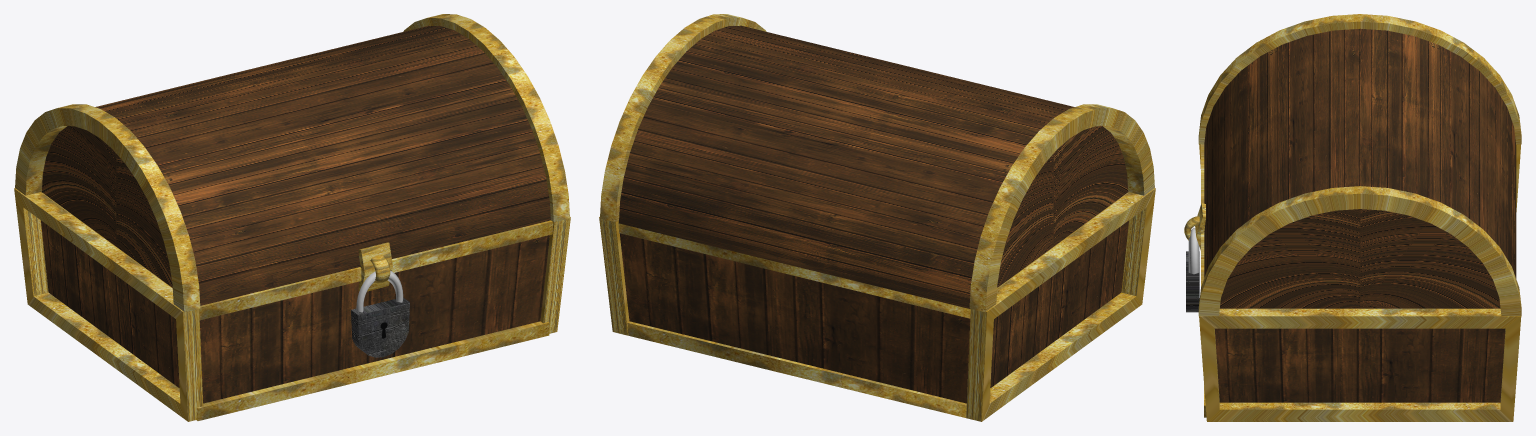
Rendered from chest_gold.FBX.
3 renders of one model, left to right at view 1: azimuth 30°, elevation 25°; view 2: azimuth 150°, elevation 25°; view 3: azimuth 270°, elevation 25°, orthographic. The views are drawn at different scales.
Parts seen in each view (by area): view 1: Cylinder01, Box02, Box03, Cylinder02, Rectangle01, Cylinder03, Rectangle02, Cylinder04, Box04, Box05, Arc01; view 2: Cylinder01, Box02, Box03, Cylinder02, Cylinder03, Rectangle01, Rectangle02, Box04; view 3: Cylinder01, Box02, Box04, Cylinder03, Cylinder02, Cylinder04, Arc01, Rectangle02.
Part boxes in pixels (x1=…): Cylinder01: x1=42, y1=25, x2=550, y2=305; Box02: x1=41, y1=220, x2=549, y2=403; Box03: x1=14, y1=188, x2=203, y2=421; Cylinder02: x1=15, y1=104, x2=200, y2=312; Rectangle01: x1=196, y1=321, x2=549, y2=420; Cylinder03: x1=403, y1=14, x2=569, y2=221; Rectangle02: x1=42, y1=192, x2=553, y2=320; Cylinder04: x1=351, y1=297, x2=409, y2=357; Box04: x1=540, y1=217, x2=570, y2=333; Box05: x1=358, y1=242, x2=392, y2=291; Arc01: x1=356, y1=271, x2=403, y2=312; Cylinder01: x1=619, y1=25, x2=1127, y2=308; Box02: x1=619, y1=220, x2=1128, y2=403; Box03: x1=966, y1=188, x2=1155, y2=421; Cylinder02: x1=969, y1=104, x2=1154, y2=312; Cylinder03: x1=600, y1=14, x2=766, y2=222; Rectangle01: x1=627, y1=321, x2=966, y2=417; Rectangle02: x1=618, y1=192, x2=1127, y2=318; Box04: x1=599, y1=217, x2=629, y2=335; Cylinder01: x1=1204, y1=28, x2=1516, y2=308; Box02: x1=1215, y1=328, x2=1505, y2=402; Box04: x1=1199, y1=308, x2=1521, y2=421; Cylinder03: x1=1198, y1=186, x2=1521, y2=315; Cylinder02: x1=1198, y1=14, x2=1521, y2=144; Cylinder04: x1=1186, y1=251, x2=1199, y2=312; Arc01: x1=1188, y1=227, x2=1199, y2=274; Rectangle02: x1=1201, y1=144, x2=1204, y2=286.
Bounding box in the file's own units: 85.86 × 51.5 × 67.8.
